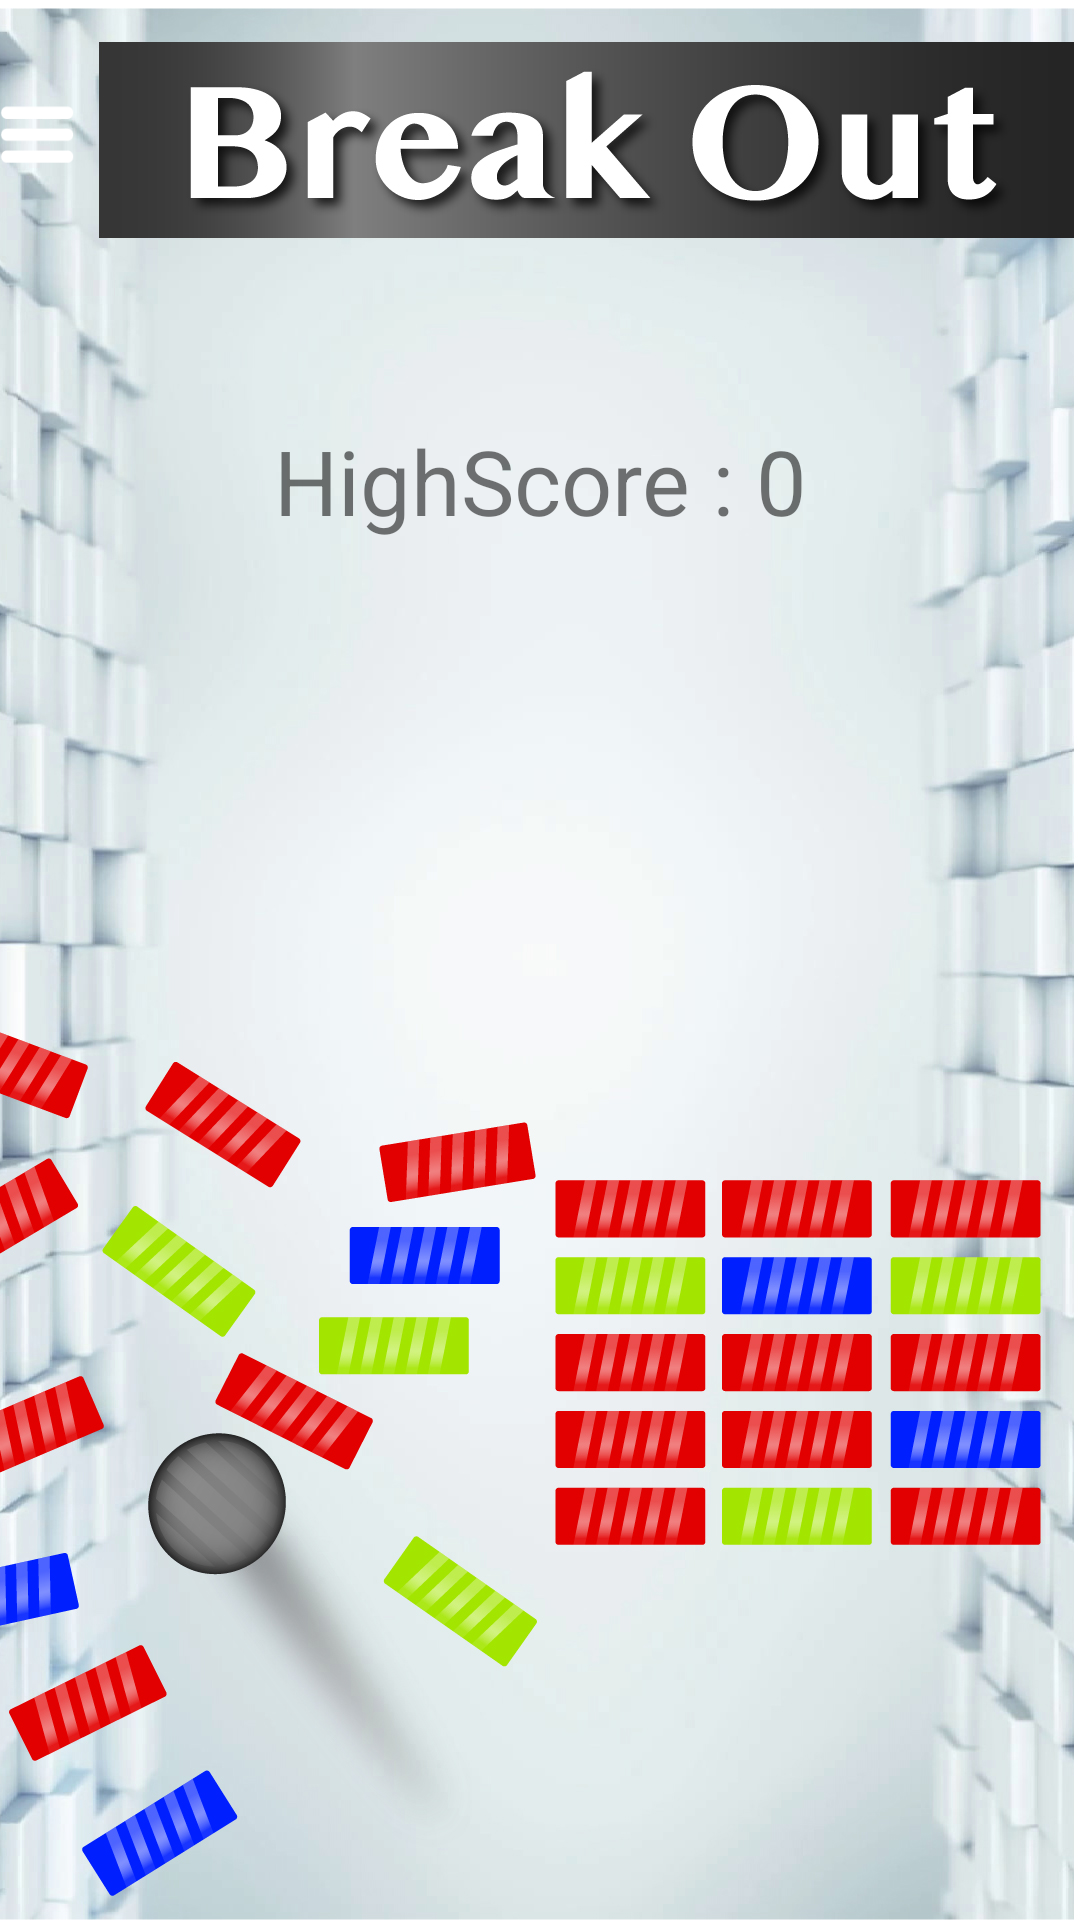

Where to tap for icons on this 1080×1920 app screen, as [x,y]:
menuwhite: [37,135]
